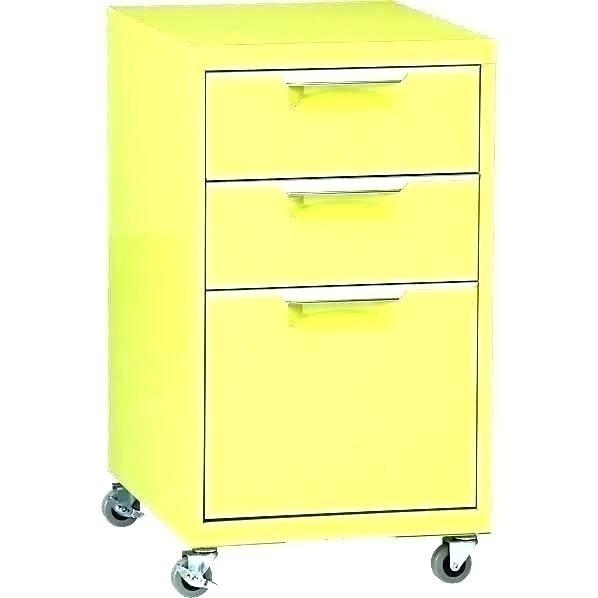cabinet_door: (205, 288, 477, 514), (211, 72, 485, 182), (206, 178, 478, 288)
handle: (280, 68, 405, 94), (288, 179, 406, 203), (282, 289, 403, 305)
